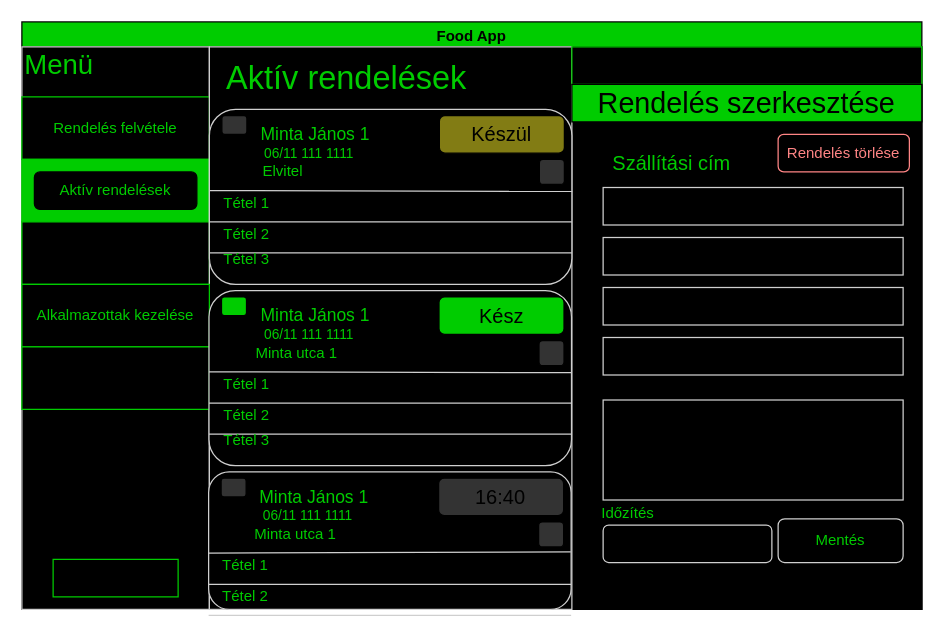
Image size: 944x639. Some labels were removed from this diagram. Here are the shapes that lost their labels. From the top down, the centre of each, then its label:
At [746,65]: "Tételek szerkesztése".
At [115,252]: "Futárok".
At [115,377]: "Statisztikák".
At [687,543]: "YYYY.MM.DD".
At [115,577]: "Kijelentkezés".
